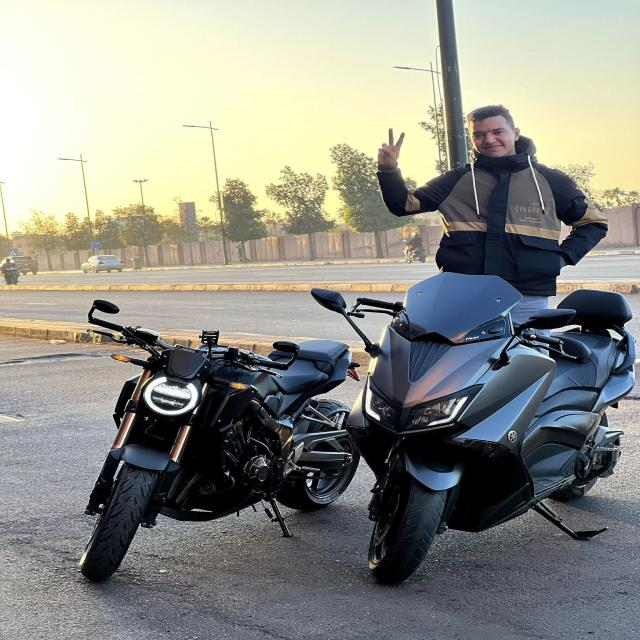Car: (79, 255, 124, 273)
Electric pole: (182, 121, 228, 265), (56, 154, 92, 249)
Motorcycle: (348, 272, 637, 584), (78, 300, 359, 581)
